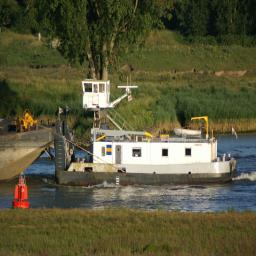tugboat: (54, 71, 241, 191)
